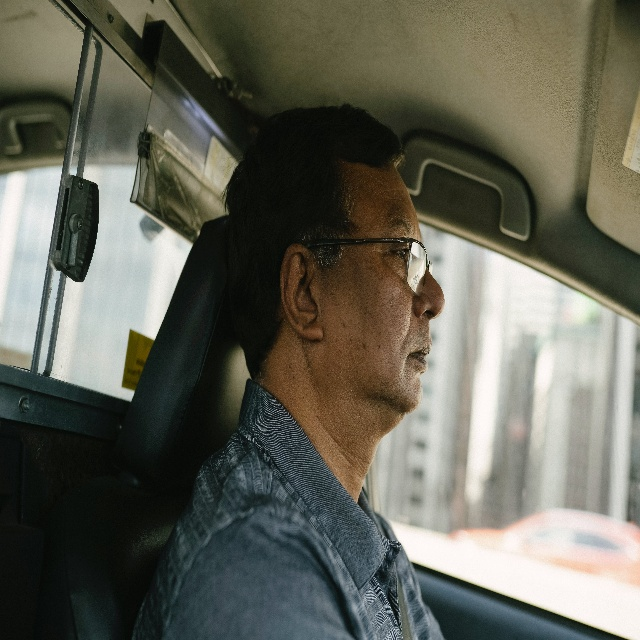Gafas: (305, 237, 434, 297)
